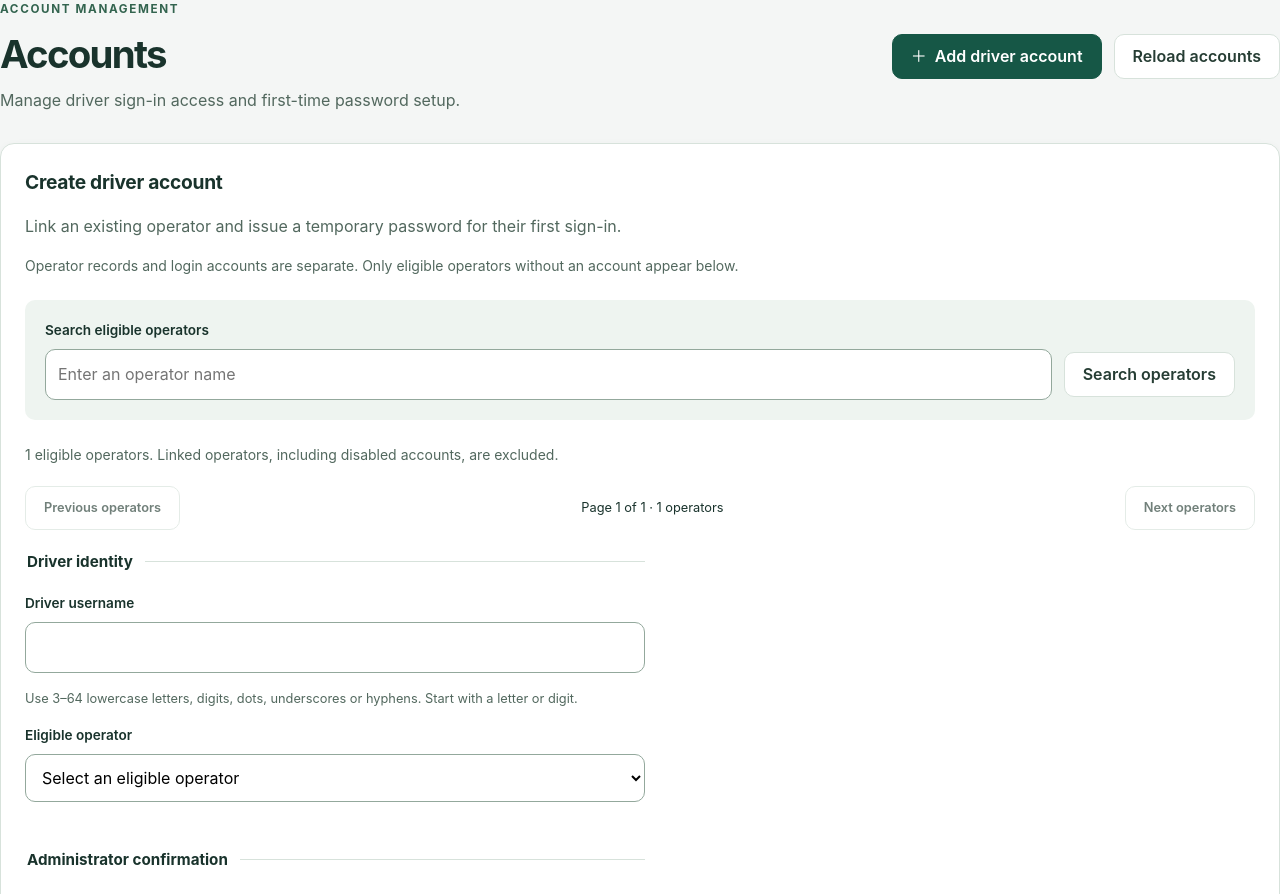
Scenario: React administrator accounts › creates once, clears the admin password immediately, and clears one-time credentials on close
Later steps or results of the test are not shown.
Check: the dropdown labelled "Eligible operator" is enabled, box [25,754,645,802]
Type "test.driver" into the field labelled "Driver username" at (335, 648), box [25,622,645,673]
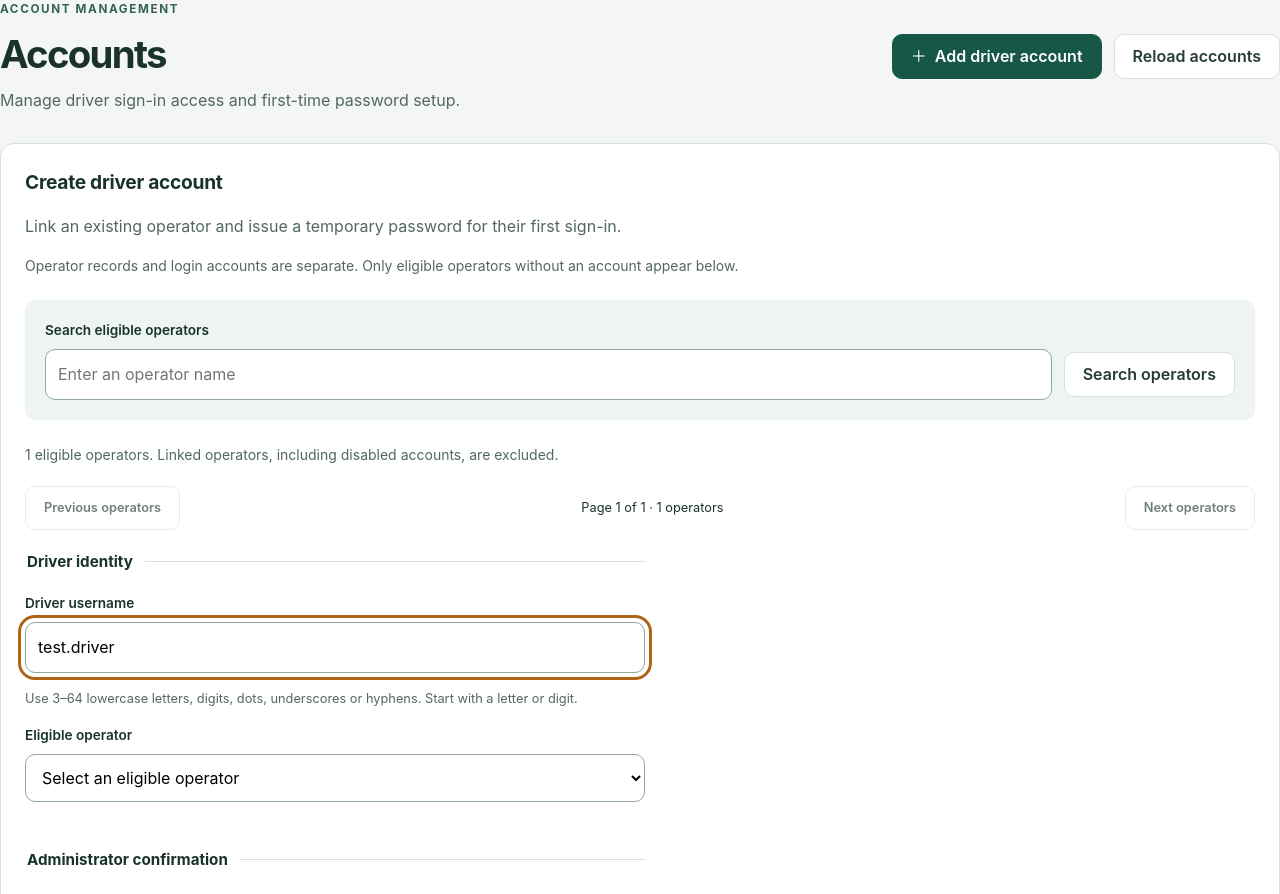
Select "<img src=x onerror=alert(1)> (#4)" in the dropdown labelled "Eligible operator" at (335, 778), box [25,754,645,802]
(page scrolled)
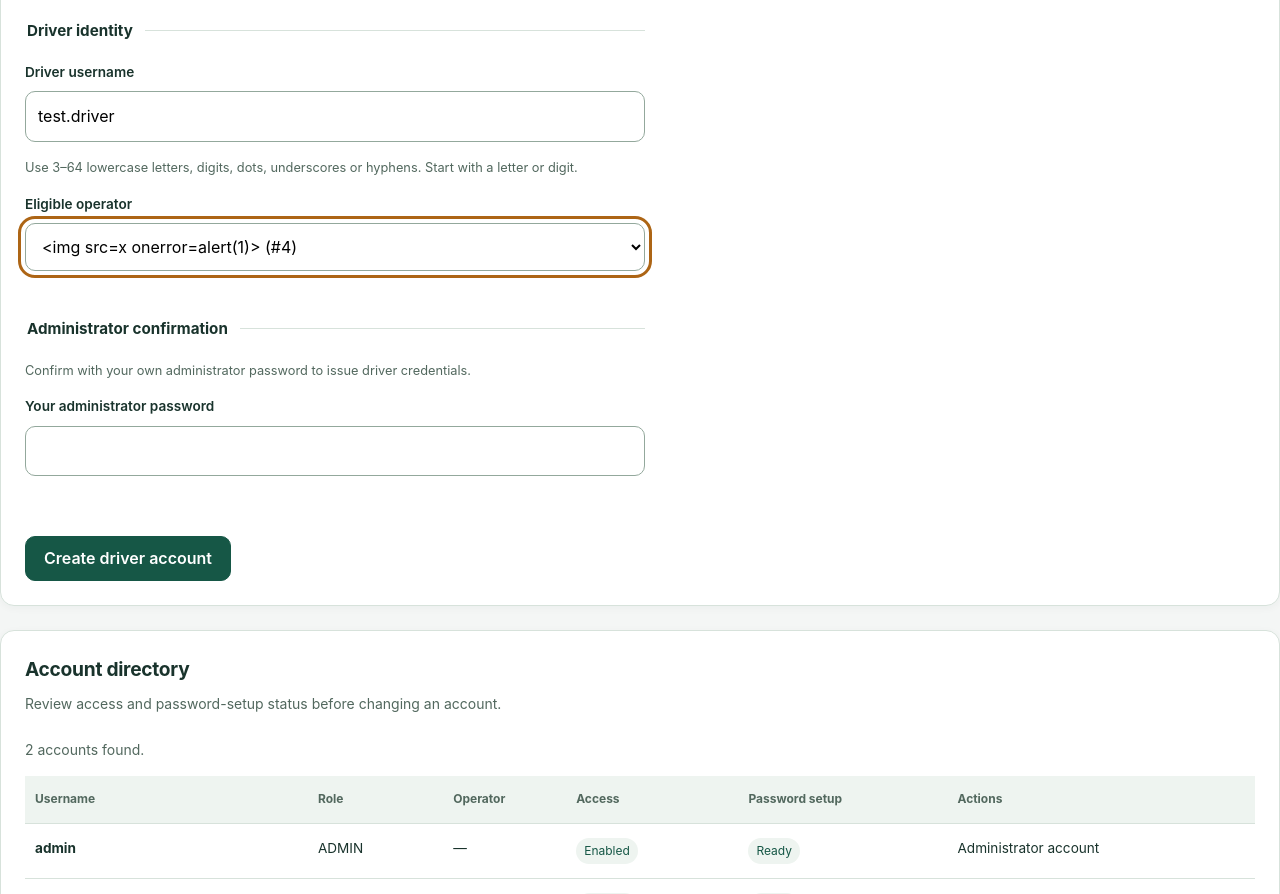
Type "test password" into the password field labelled "Your administrator password" at (335, 451), box [25,426,645,476]
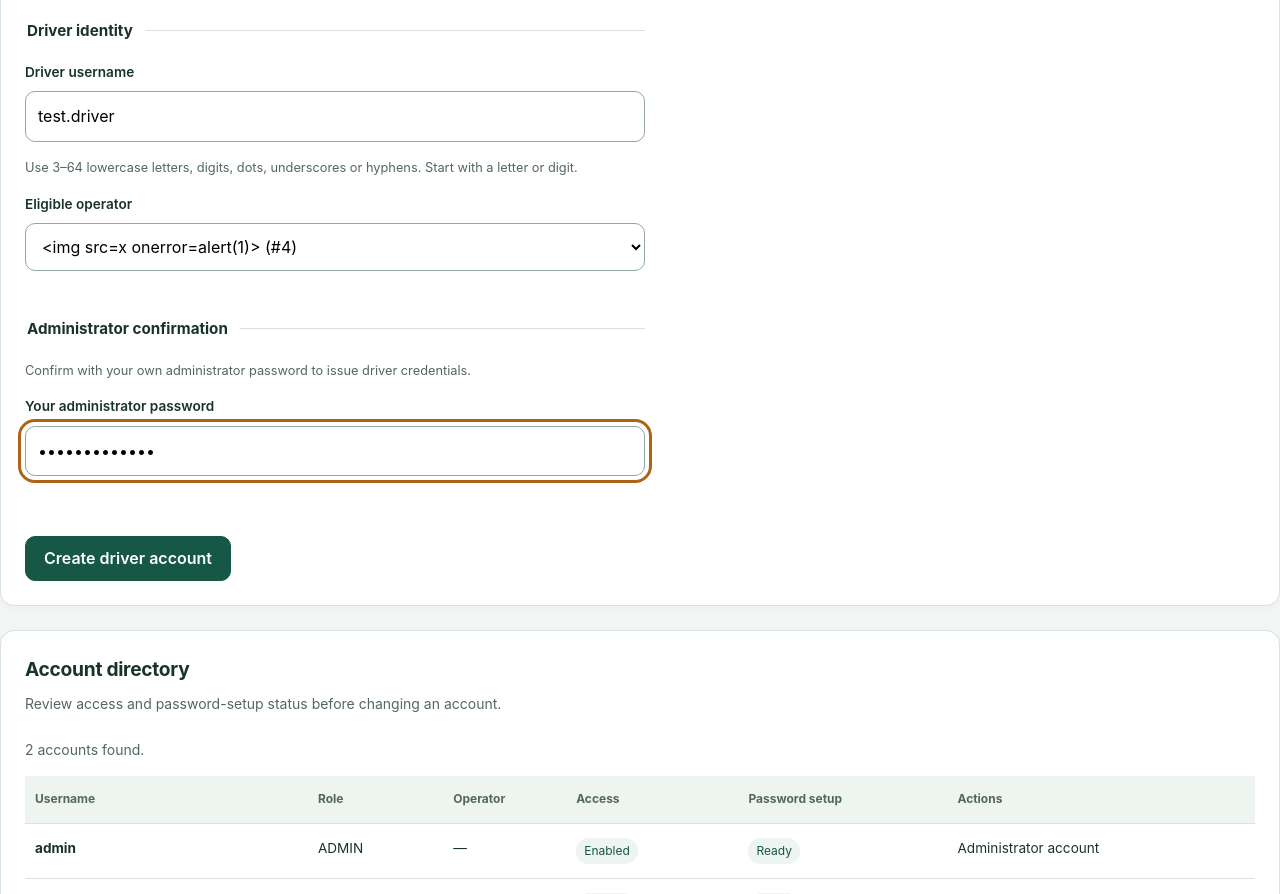
Click the button "Create driver account" at (128, 559), box [25,536,231,581]
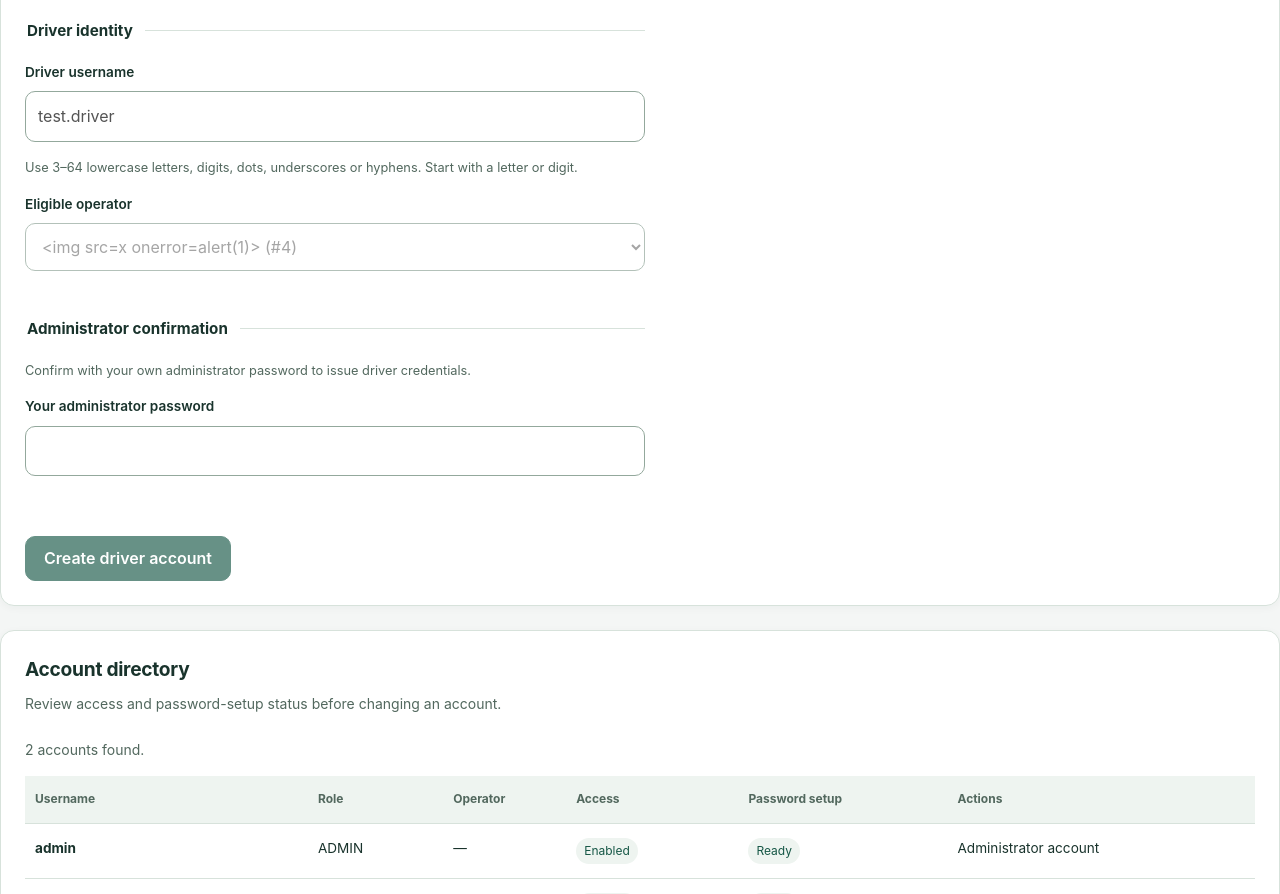
Submit the form named "Create driver account", box [25,19,645,581]
(page scrolled)
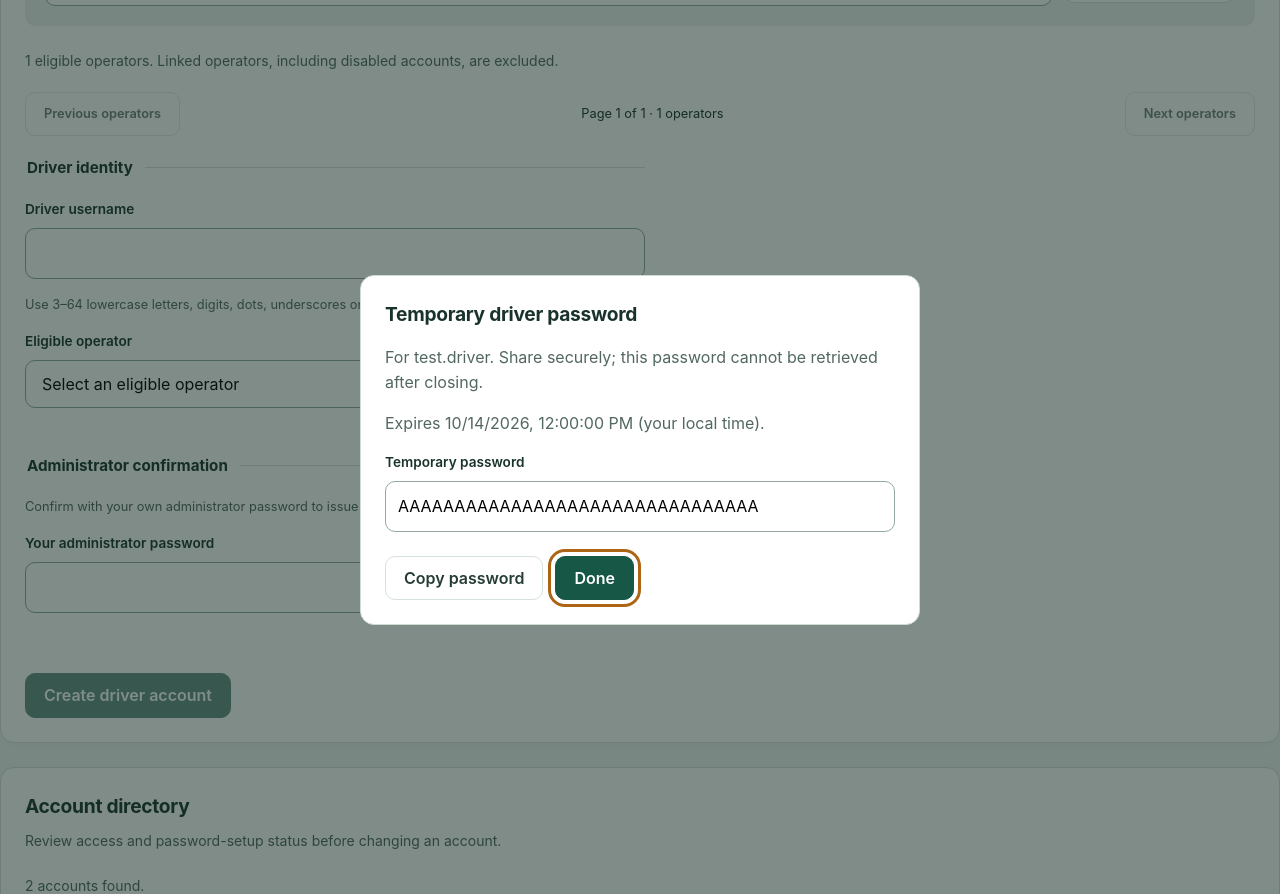
Check: the password field labelled "Your administrator password" is empty, box [25,562,645,613]
Check: the button "Create driver account" is disabled, box [25,673,231,718]
Check: the dialog "Temporary driver password" is shown, box [360,275,920,625]
